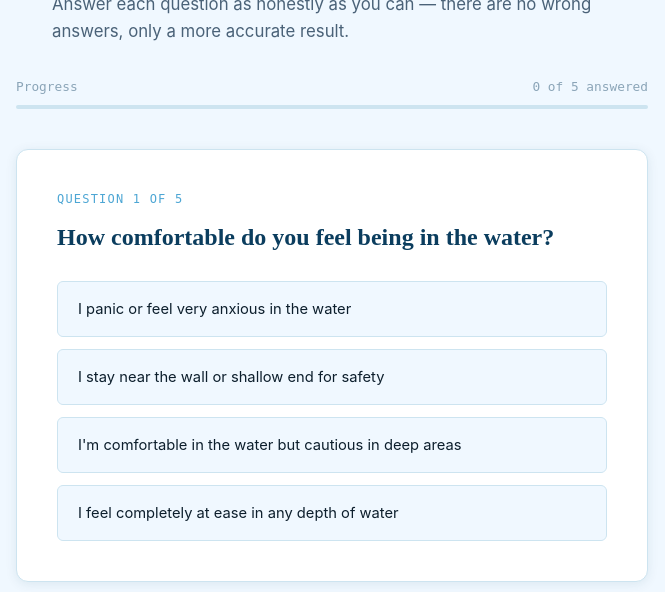
it: Assessment page › assigns Beginner level for minimum score (0)
Click the radio button "I panic or feel very anxious in the water".
click(332, 309)  # box [57,281,607,337]
(page scrolled)
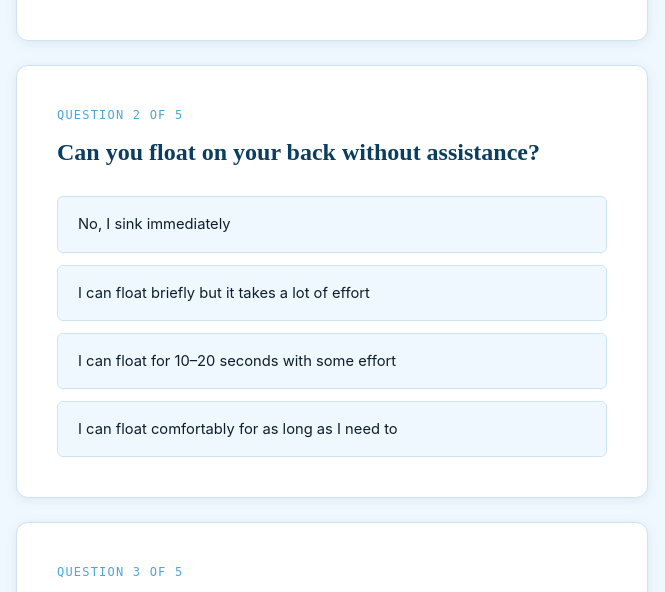
Click the radio button "No, I sink immediately".
click(154, 224)  # box [57,196,607,253]
(page scrolled)
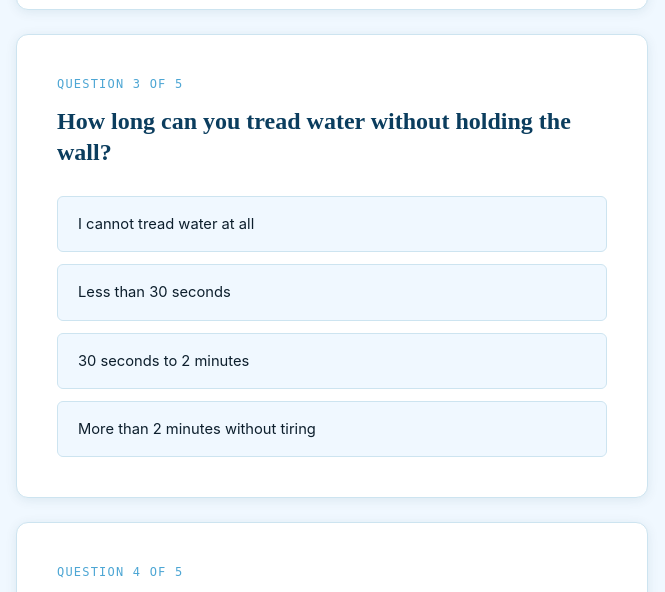
Click the radio button "I cannot tread water at all".
click(166, 224)  # box [57,196,607,252]
(page scrolled)
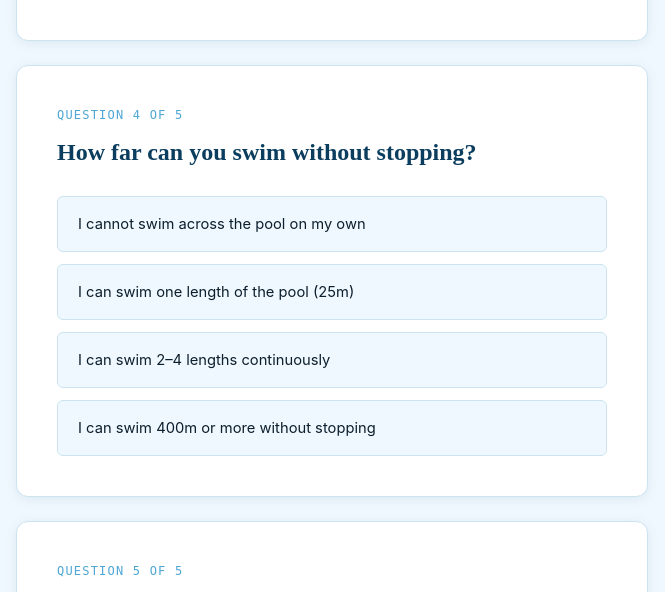
Click the radio button "I cannot swim across the pool on my own".
click(332, 224)  # box [57,196,607,252]
(page scrolled)
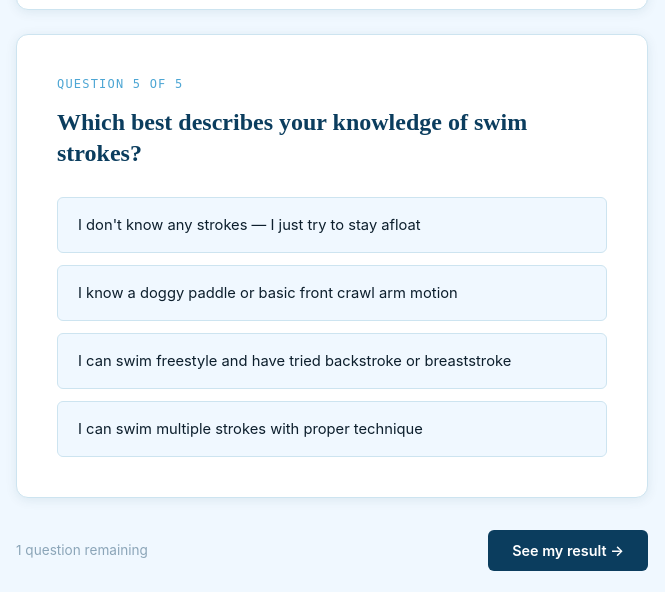
Click the radio button "I don't know any strokes — I just try to stay afloat".
click(332, 225)  # box [57,197,607,253]
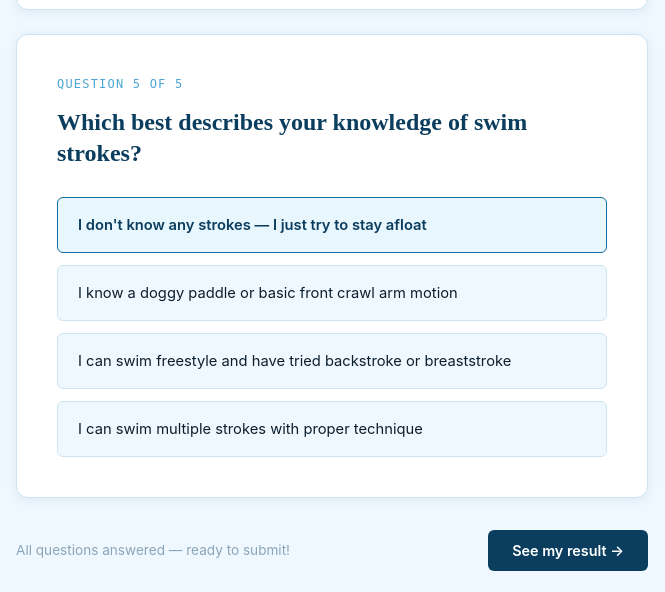
Click the button "See my result →".
click(568, 551)  # box [488,530,648,571]
(page scrolled)
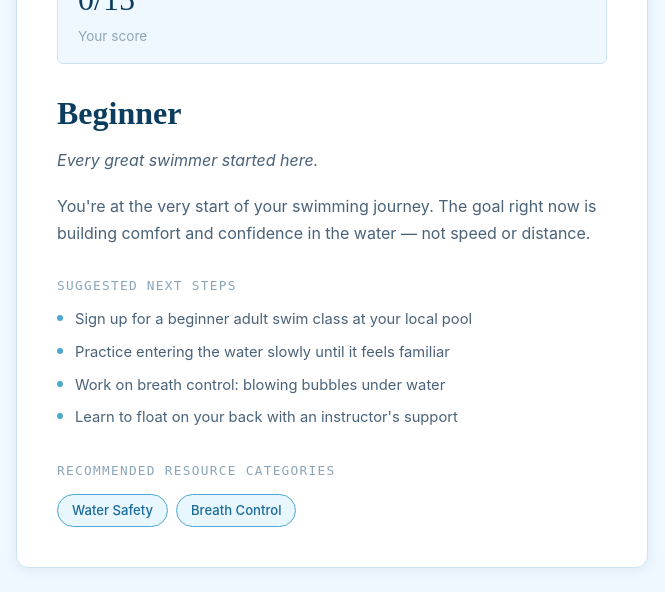
Check: the heading "Beginner" is shown, box [57,95,181,131]
